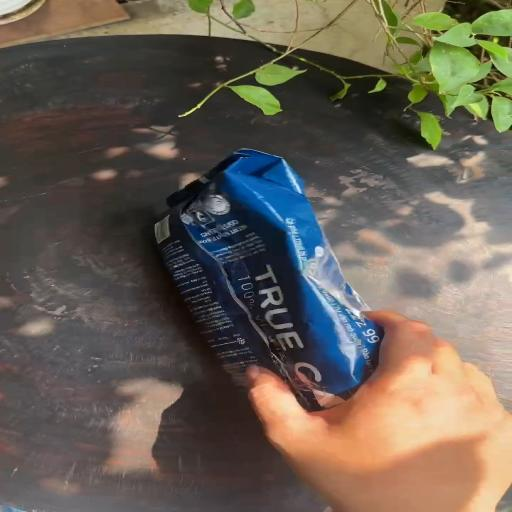cafe_hat: (154, 149, 383, 410)
